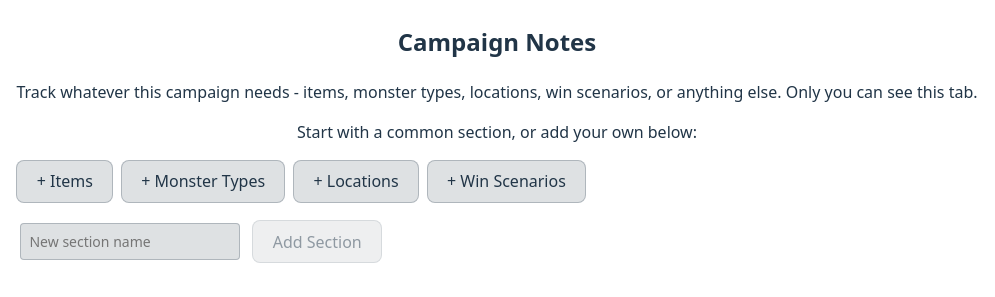
Scenario: CampaignNotes › renames and deletes a custom section
Type "Clues" into the field with placeholder "New section name" at (130, 242), box left=20, top=223, right=240, bottom=260
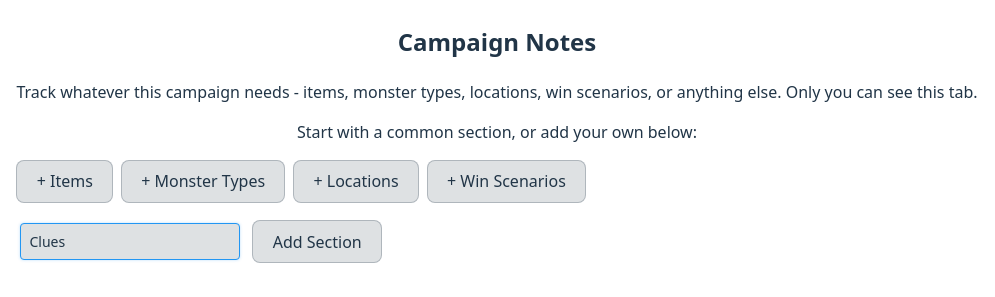
Click the button "Add Section" at (317, 242), box left=252, top=220, right=382, bottom=263
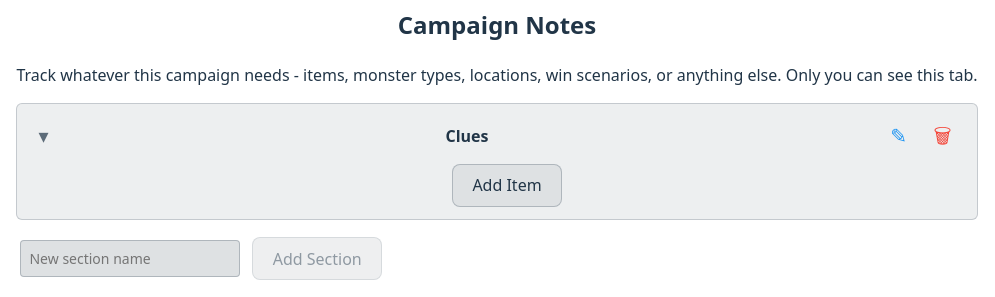
Check: the text "Clues" is shown, box left=446, top=125, right=488, bottom=147
Click the button named "Edit section name" at (898, 136), box left=880, top=118, right=916, bottom=154
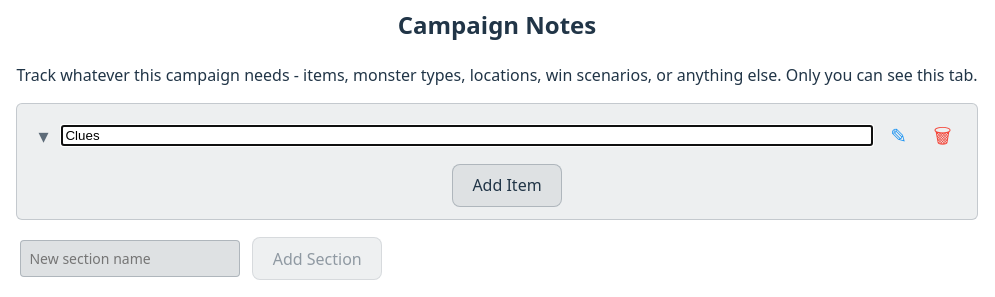
Replace the text in the field with placeholder "Section name" with "Evidence" at (467, 136), box left=62, top=125, right=872, bottom=146
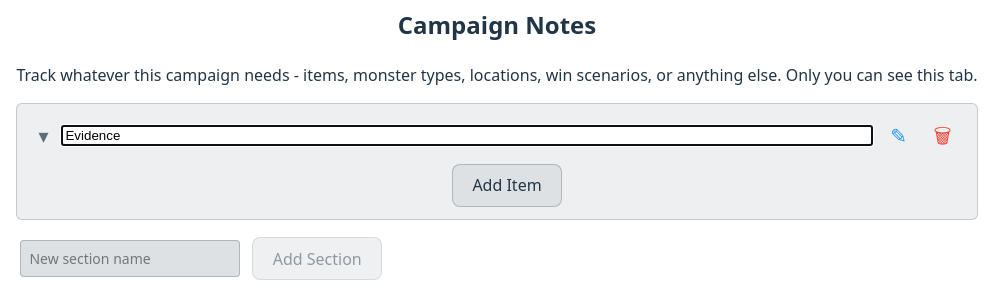
Press Tab
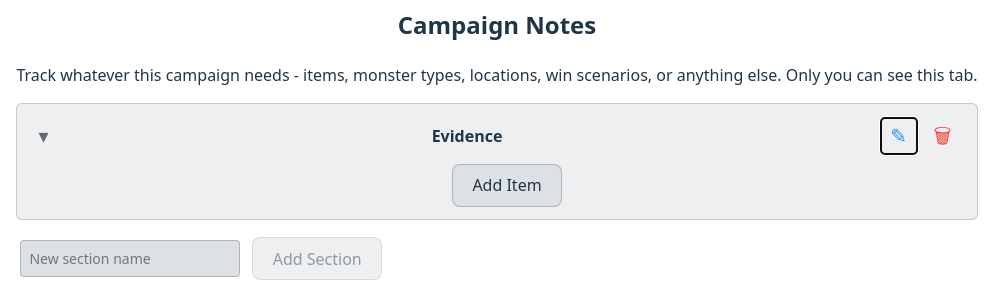
Check: the text "Evidence" is shown, box left=432, top=125, right=502, bottom=147
Click the button named "Delete section" at (942, 136), box left=924, top=118, right=960, bottom=154
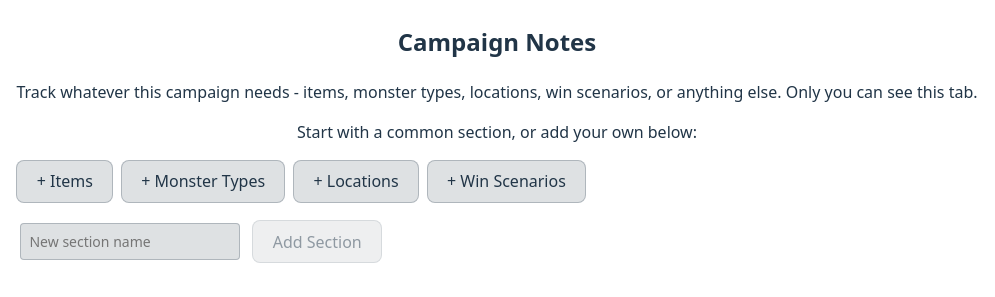
Check: the button "Evidence" is gone
